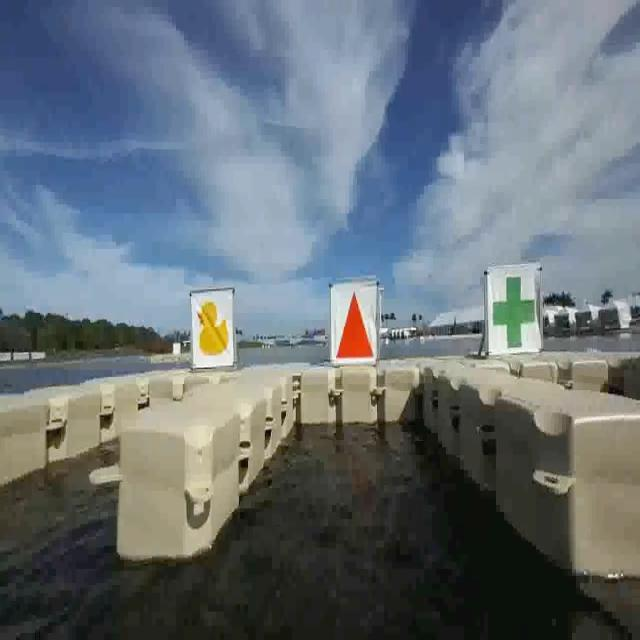blue-cross: (488, 268, 541, 358)
red-dot: (333, 287, 377, 360)
yellow-duck: (197, 298, 231, 356)
